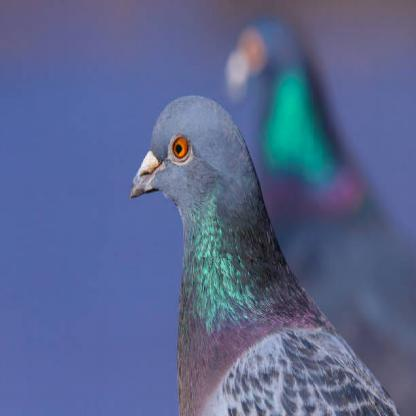Rock Pigeon: (126, 87, 390, 414)
